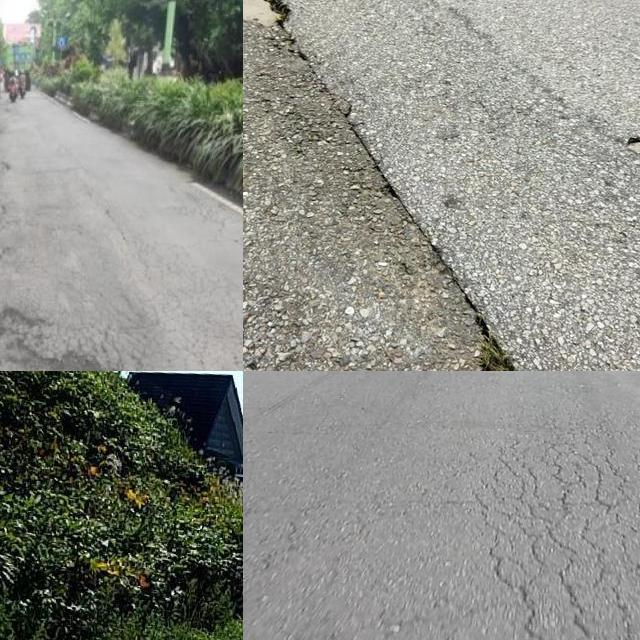Lubang: (0, 332, 115, 371)
Memanjang: (243, 0, 548, 371)
Retak Buaya: (489, 442, 640, 640)
